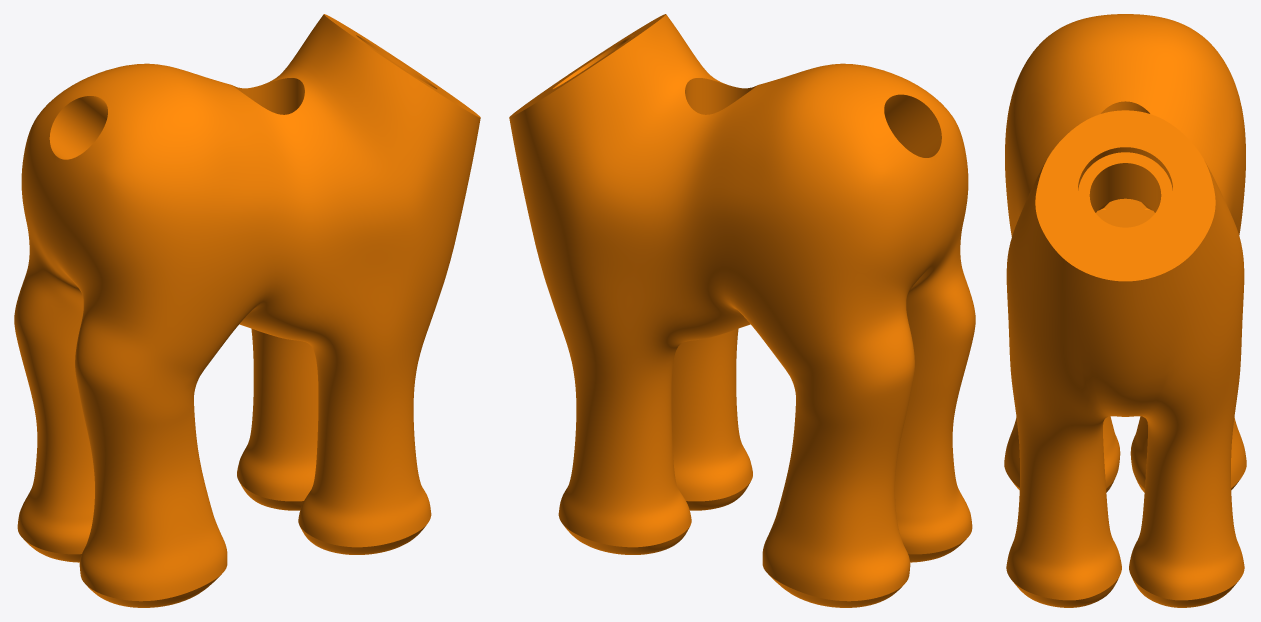
The model's file is Horse Body Standing.glb.
3 renders of one model, left to right at view 1: azimuth 30°, elevation 25°; view 2: azimuth 150°, elevation 25°; view 3: azimuth 270°, elevation 25°, orthographic. The views are drawn at different scales.
Parts seen in each view (by area): view 1: Horse Body Standing; view 2: Horse Body Standing; view 3: Horse Body Standing.
Boxes of the visible parts, x1,y1,x2,y2 form: Horse Body Standing: (14, 14, 480, 607); Horse Body Standing: (509, 14, 975, 607); Horse Body Standing: (1004, 14, 1246, 607).
Bounding box in the file's own units: 0.0397 × 0.044 × 0.0203.
